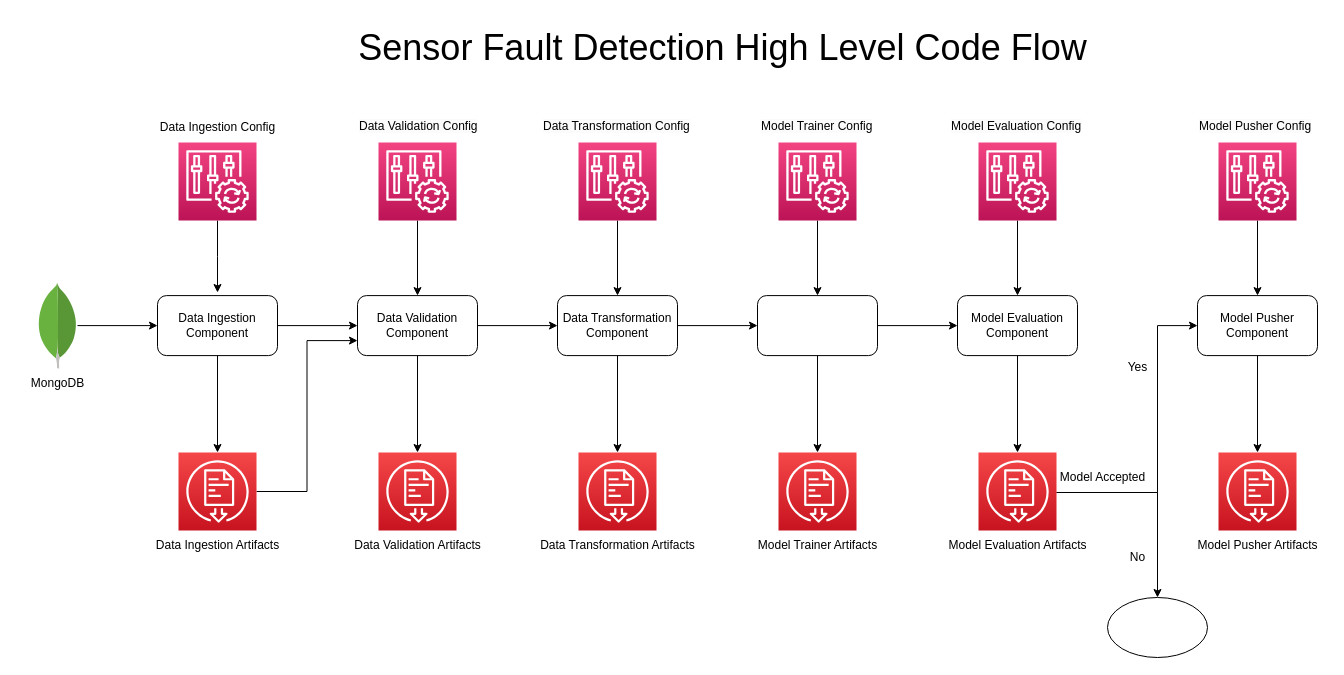
The diagram is 1344 pixels wide and 675 high, and some of its shapes have lost their labels. Each missing label, with the box of its shape:
Model Trainer Component: (756, 295, 878, 356)
None: (1106, 596, 1208, 658)
